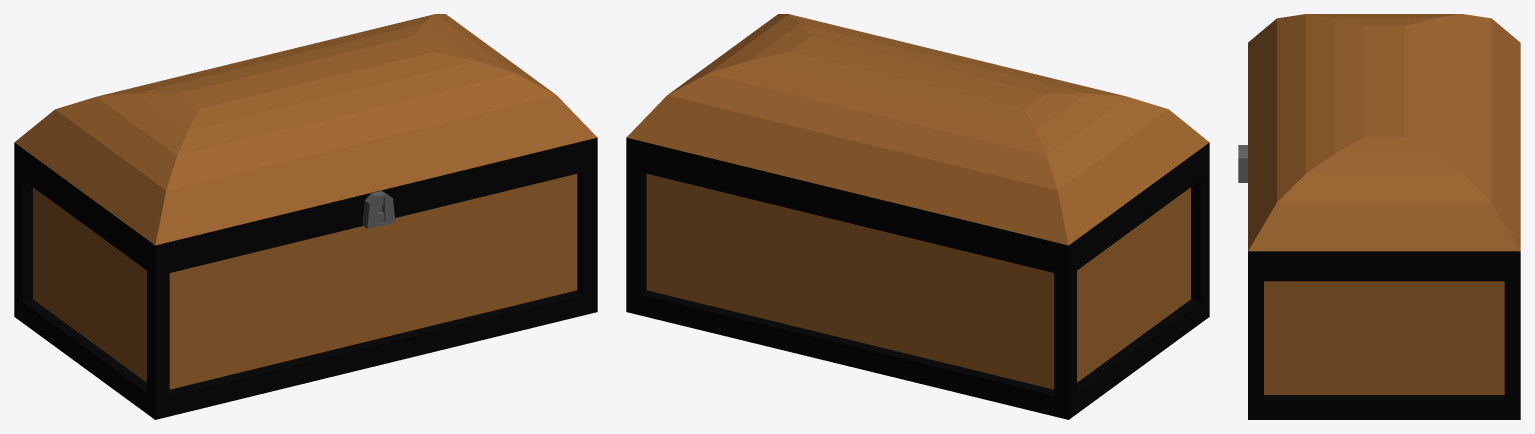
The model's file is Chest_02.fbx.
3 views of the same model, side by side, from view 1: azimuth 30°, elevation 25°; view 2: azimuth 150°, elevation 25°; view 3: azimuth 270°, elevation 25° (orthographic). The views are drawn at different scales.
Visible parts, largest first — view 1: Chest_02; view 2: Chest_02; view 3: Chest_02.
Part boxes in pixels (x1,y1,x2,y2): Chest_02: (14, 14, 597, 419); Chest_02: (626, 14, 1209, 419); Chest_02: (1238, 14, 1520, 419).
Size of the model in its own units: 105 by 54.77 by 59.88.
